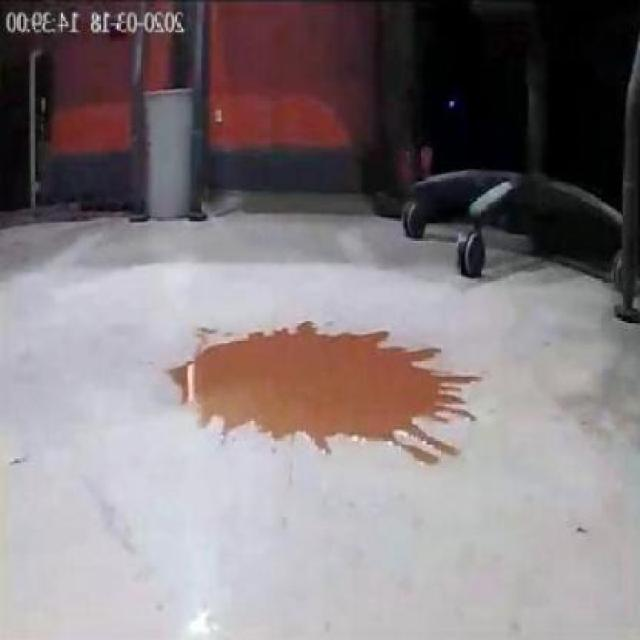spillage: (165, 323, 476, 466)
